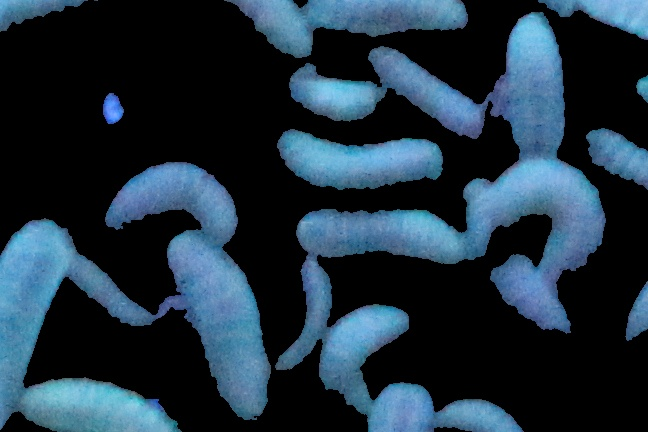larvae: (167, 232, 277, 429), (487, 154, 608, 284), (465, 176, 565, 330), (1, 210, 68, 415), (275, 130, 443, 204), (104, 160, 238, 243), (498, 12, 573, 156), (379, 54, 491, 150), (282, 212, 464, 268), (317, 306, 408, 416), (23, 378, 169, 432), (279, 252, 332, 378), (282, 75, 390, 129), (308, 1, 468, 37), (1, 1, 117, 49), (229, 1, 309, 55), (587, 126, 648, 190), (370, 379, 436, 432), (441, 396, 527, 432)
